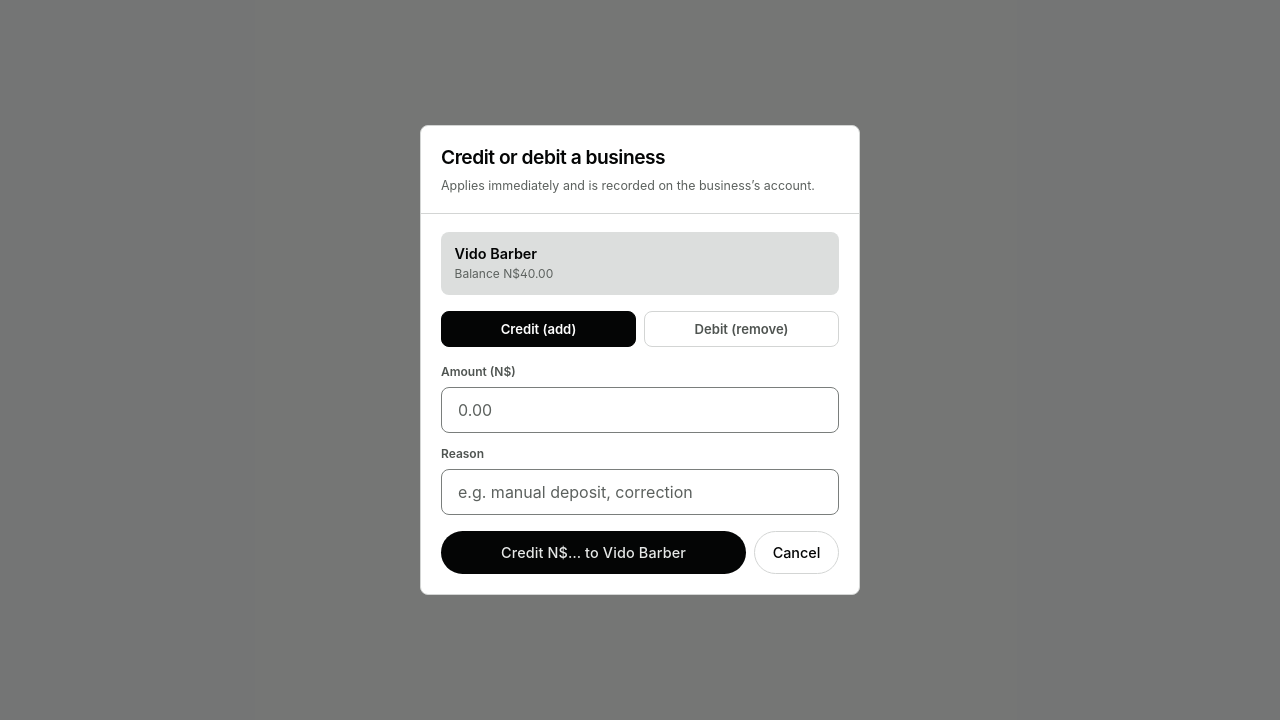
Test: WalletAdjustDialog › shows the API error (e.g. an over-debit) and stays open
Click the button "Debit (remove)": click(742, 329) [644,311,839,347]
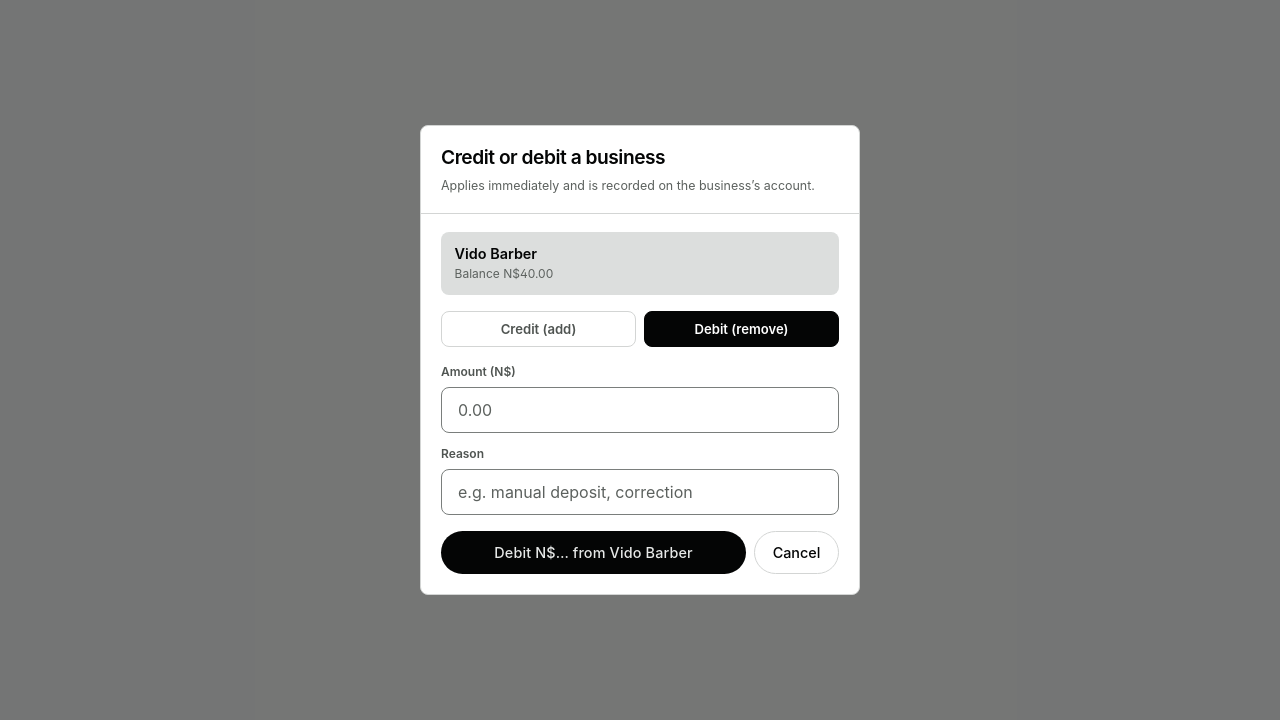
In the number field labelled "Amount (N$)": (640, 410) [441,387,839,433], type "90"
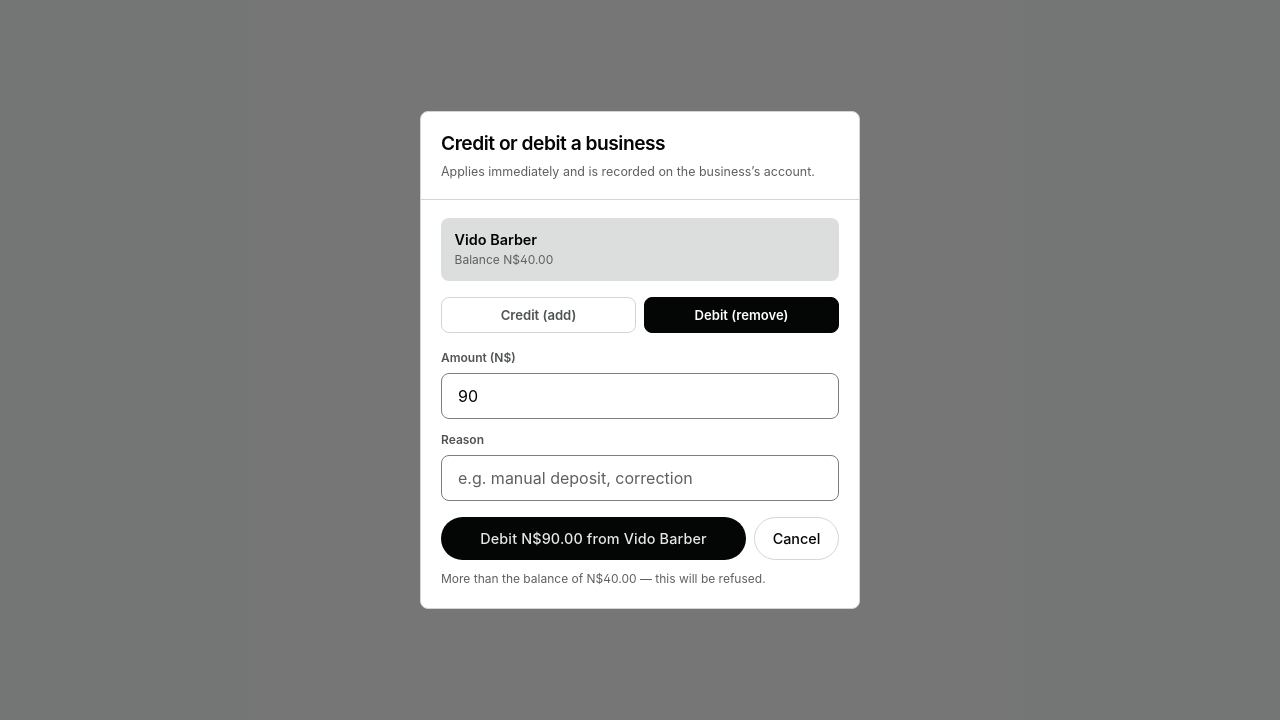
Click the button "Debit N$90.00 from Vido Barber": click(594, 539) [441,517,746,560]
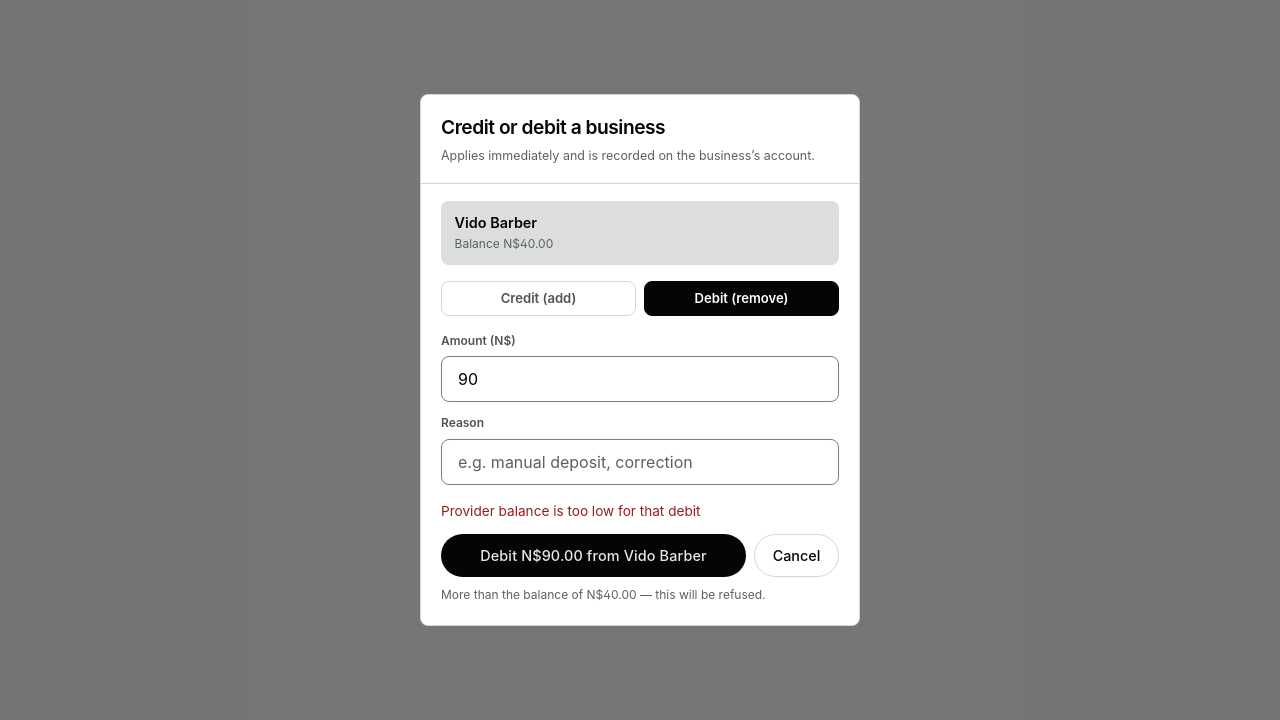
Now the message shows "too low", box [441,502,700,518]
